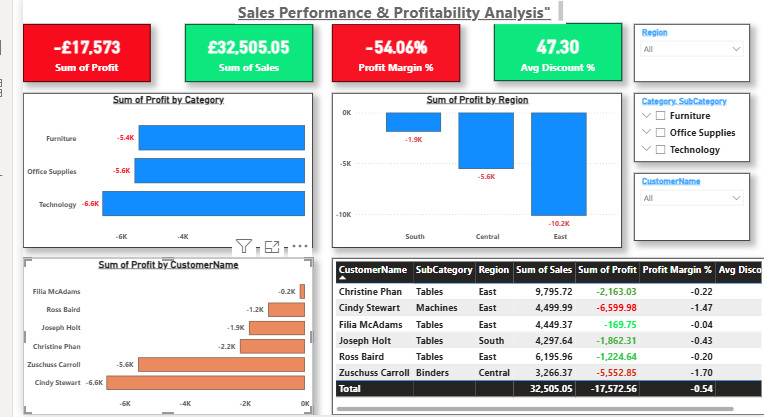

The dashboard page shown, as its layout file describes it:
{"tool":"powerbi","page":{"name":"Page 2","canvas":[1280,720],"ordinal":0},"visuals":[{"type":"card","fields":{"Values":["Sum(Superstore_Master_Data.Profit)"]},"box":[0,44.9,220,100],"z":0},{"type":"card","fields":{"Values":["Sum(Superstore_Master_Data.Sales)"]},"box":[279.5,44.9,220.8,100.1],"z":1000},{"type":"card","fields":{"Values":["Superstore_Master_Data.Profit Margin"]},"box":[533,44.9,220.8,100.1],"z":2000},{"type":"card","fields":{"Values":["Superstore_Master_Data.Avg Discount %"]},"box":[812.5,43.1,220.8,100.1],"z":3000},{"type":"clusteredBarChart","fields":{"Category":["Superstore_Master_Data.Category Hierarchy.Category","Superstore_Master_Data.Category Hierarchy.SubCategory"],"Y":["Sum(Superstore_Master_Data.Profit)"]},"box":[0,163.9,500.3,267.4],"z":4000},{"type":"clusteredColumnChart","fields":{"Category":["Superstore_Master_Data.Region"],"Y":["Sum(Superstore_Master_Data.Profit)"]},"box":[533,163.9,500.3,267.4],"z":5000},{"type":"barChart","fields":{"Y":["Sum(Superstore_Master_Data.Profit)"],"Category":["Superstore_Master_Data.CustomerName"]},"box":[0,448.5,500.3,270.8],"z":6000},{"type":"tableEx","fields":{"Values":["Superstore_Master_Data.CustomerName","Superstore_Master_Data.SubCategory","Superstore_Master_Data.Region","Sum(Superstore_Master_Data.Sales)","Sum(Superstore_Master_Data.Profit)","Superstore_Master_Data.Profit Margin","Superstore_Master_Data.Avg Discount %"]},"box":[533,448.5,747,270.8],"z":7000},{"type":"slicer","fields":{"Values":["Superstore_Master_Data.Region"]},"box":[1054,44.9,200.1,100.1],"z":8000},{"type":"slicer","fields":{"Values":["Superstore_Master_Data.Category","Superstore_Master_Data.SubCategory"]},"box":[1054,163.9,200.1,119],"z":9000},{"type":"slicer","fields":{"Values":["Superstore_Master_Data.CustomerName"]},"box":[1054,301.9,200.1,117.3],"z":10000},{"type":"textbox","box":[365.7,0,571,44.9],"z":11000}]}

Visuals, with their boxes in screenshot pixels (x1, y1, x2, y2):
card - Sum(Superstore_Master_Data.Profit): region(26, 24, 152, 81)
card - Sum(Superstore_Master_Data.Sales): region(186, 24, 312, 81)
card - Superstore_Master_Data.Profit Margin: region(331, 24, 457, 81)
card - Superstore_Master_Data.Avg Discount %: region(491, 23, 617, 80)
clusteredBarChart - Superstore_Master_Data.Category Hierarchy.Category x Superstore_Master_Data.Category Hierarchy.SubCategory: region(26, 92, 312, 245)
clusteredColumnChart - Superstore_Master_Data.Region x Sum(Superstore_Master_Data.Profit): region(331, 92, 617, 245)
barChart - Sum(Superstore_Master_Data.Profit) x Superstore_Master_Data.CustomerName: region(26, 255, 312, 410)
tableEx - Superstore_Master_Data.CustomerName x Superstore_Master_Data.SubCategory: region(331, 255, 758, 410)
slicer - Superstore_Master_Data.Region: region(629, 24, 744, 81)
slicer - Superstore_Master_Data.Category x Superstore_Master_Data.SubCategory: region(629, 92, 744, 160)
slicer - Superstore_Master_Data.CustomerName: region(629, 171, 744, 238)
textbox: region(235, 0, 562, 24)
